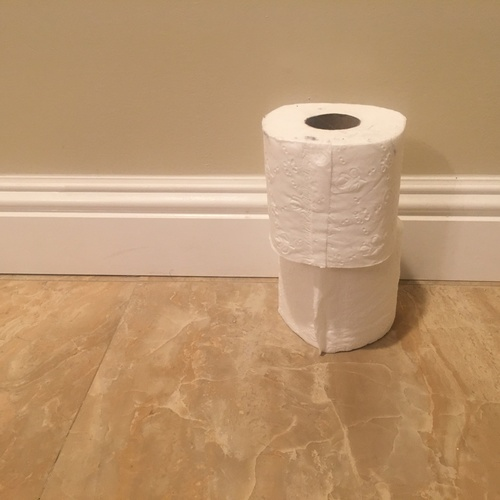roll: (262, 103, 407, 267), (278, 222, 402, 352)
